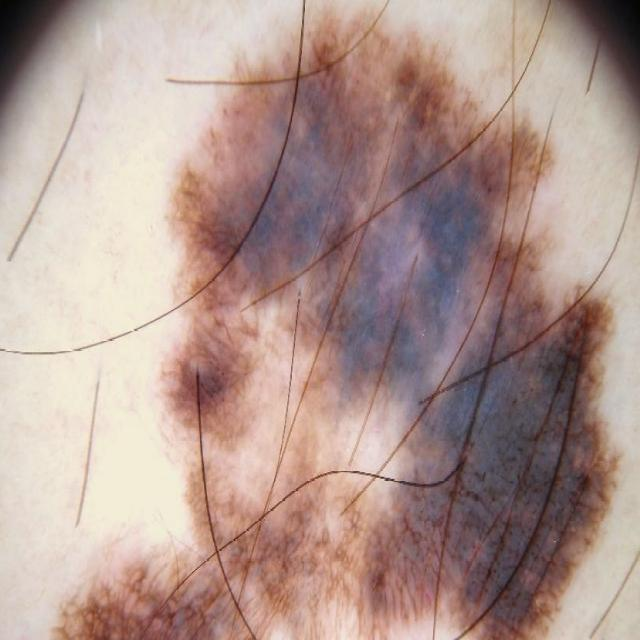Keratosis: (163, 56, 490, 331), (417, 261, 640, 640), (251, 449, 526, 640), (40, 531, 331, 640)
